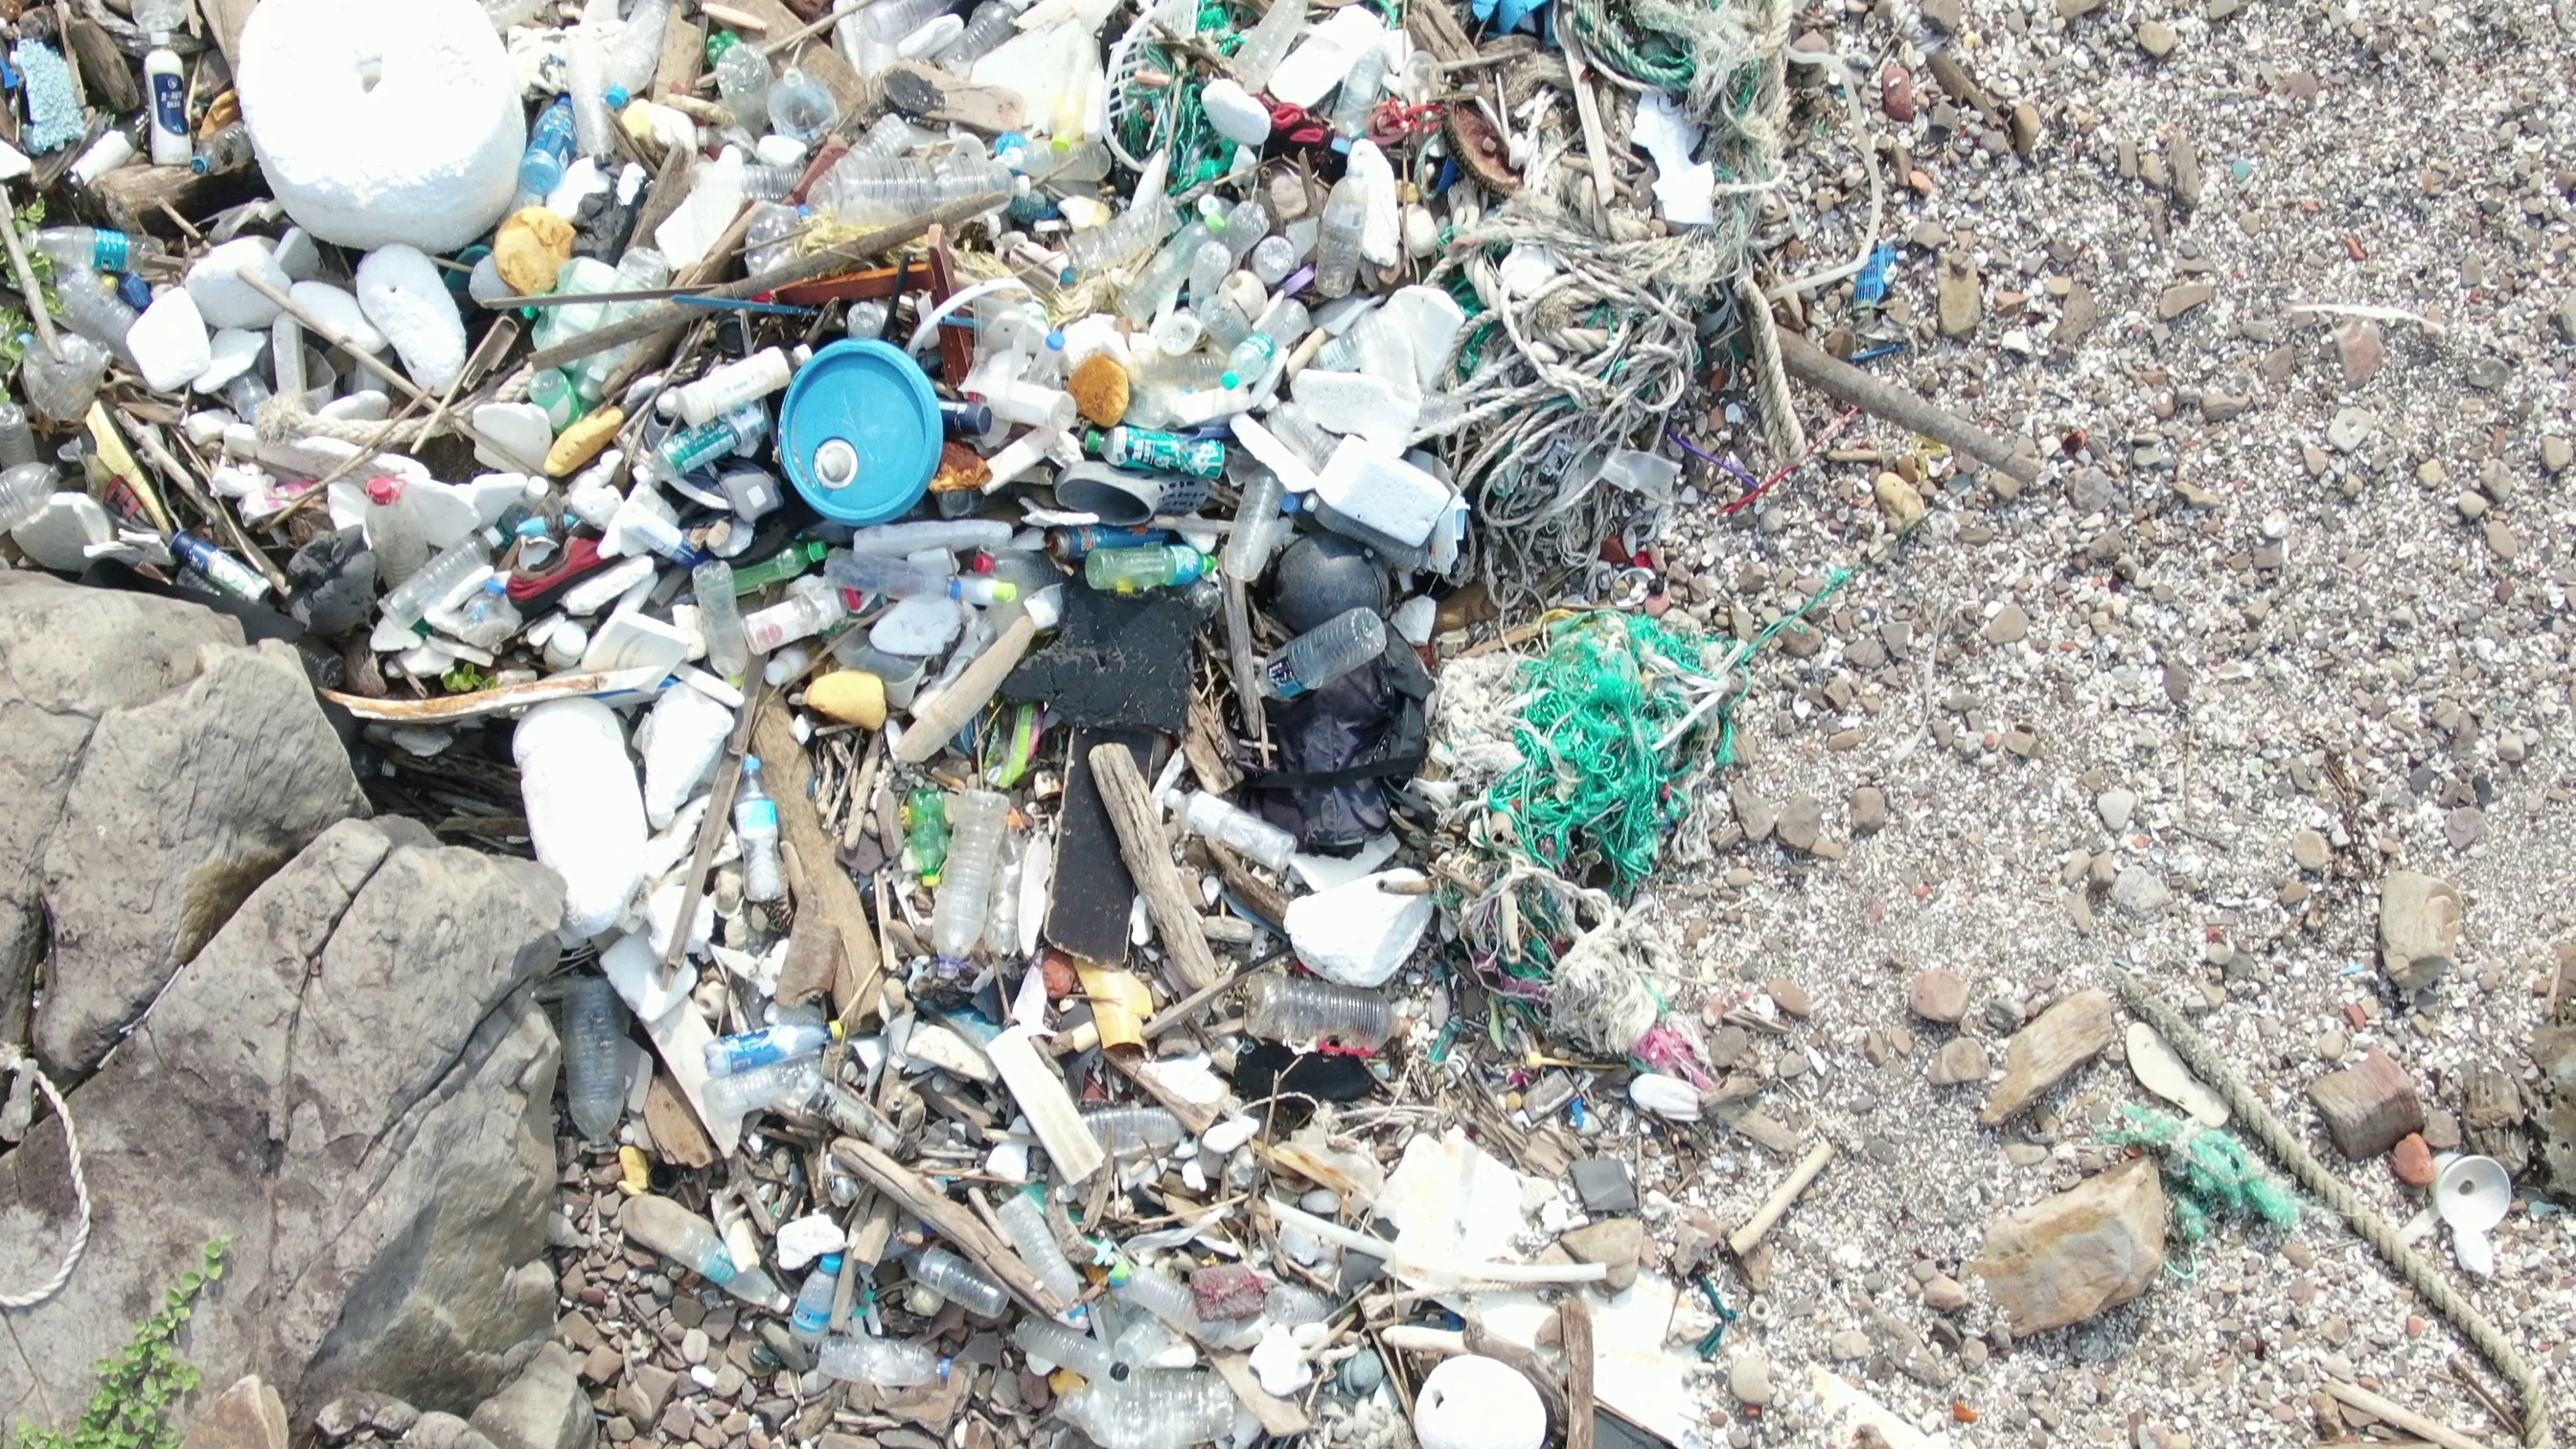bottle: (617, 1194, 805, 1325), (1231, 962, 1428, 1062), (579, 239, 679, 430), (832, 513, 1037, 605), (559, 971, 653, 1169), (361, 520, 513, 637), (1235, 602, 1401, 701), (1099, 200, 1235, 311), (823, 159, 1063, 218), (878, 1231, 1019, 1325), (1099, 1261, 1169, 1440), (129, 25, 209, 179), (639, 398, 786, 481), (1077, 418, 1237, 490), (1309, 143, 1382, 303), (1180, 207, 1286, 311), (1215, 308, 1336, 398), (816, 1330, 987, 1392), (699, 1016, 869, 1077), (1316, 30, 1396, 156), (25, 212, 172, 280), (1069, 1095, 1214, 1161), (740, 745, 791, 915), (717, 39, 789, 157), (561, 39, 623, 177), (1016, 1313, 1131, 1385), (690, 564, 754, 692), (922, 2, 1040, 69), (2, 441, 85, 536), (720, 531, 832, 602), (524, 76, 580, 207), (768, 67, 847, 159), (363, 469, 428, 579), (1226, 2, 1304, 94), (902, 780, 959, 904), (1076, 548, 1228, 594), (740, 198, 819, 285), (786, 1253, 849, 1350), (717, 152, 821, 211), (186, 110, 260, 191), (847, 106, 918, 156), (520, 370, 571, 433), (844, 295, 886, 343)
garbage: (384, 614, 1808, 1449), (2, 2, 1805, 617), (2105, 970, 2576, 1438)
